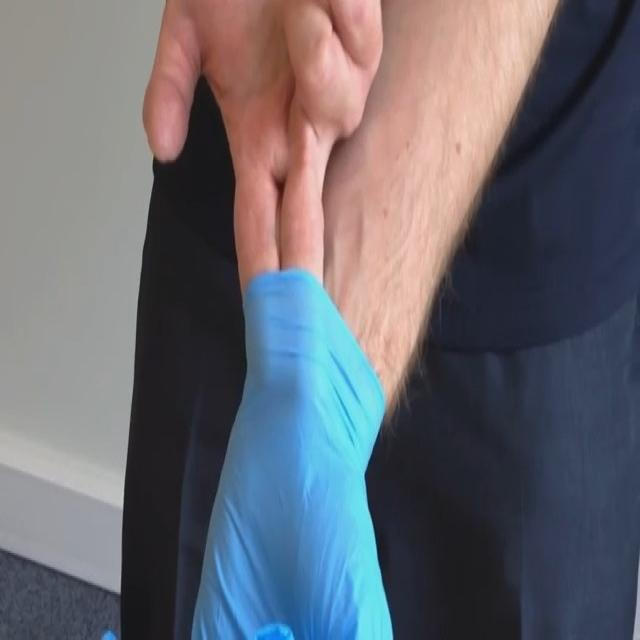Gloves: (182, 263, 426, 640)
